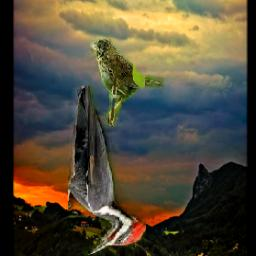Sparrow: (91, 38, 165, 128)
Woodpecker: (69, 86, 147, 255)
